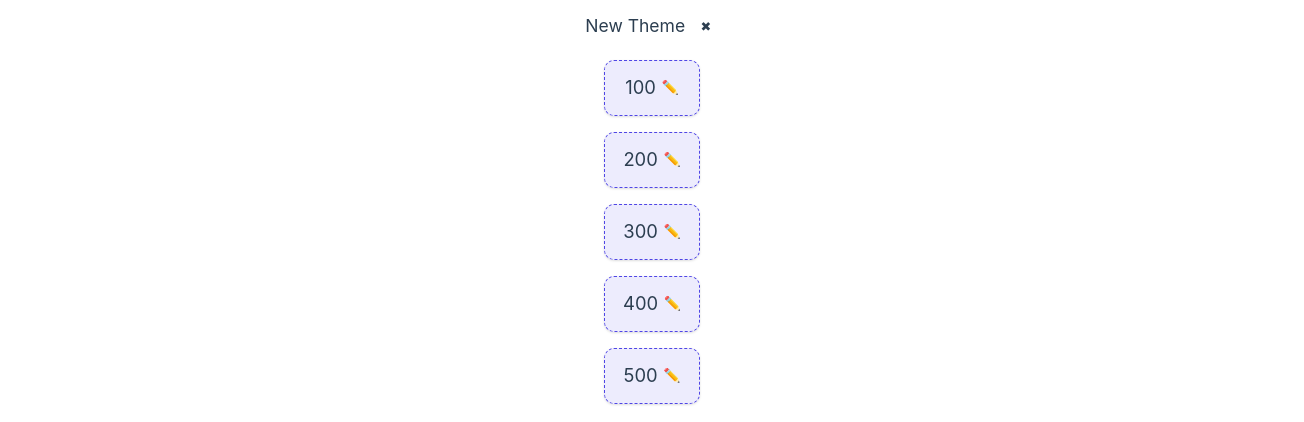
Test: ThemeColumn › edits the theme title via click and Enter
Click the heading with class "theme-header": [635, 26] box 585,12 -> 685,40
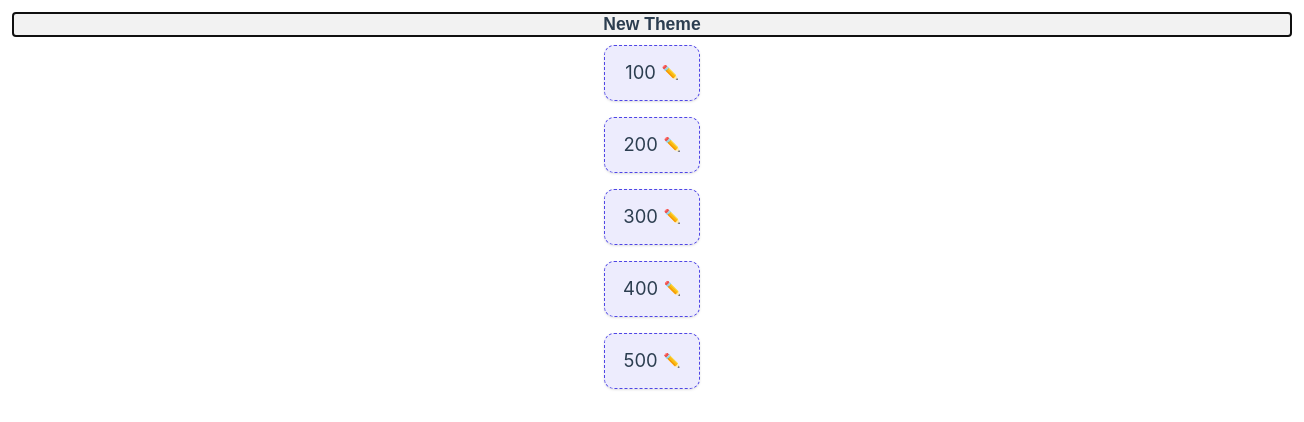
expect the field with class "theme-header-input" is shown: met
Replace the text in the field with class "theme-header-input" with "  Geografie  ": [652, 24] box 12,12 -> 1292,37
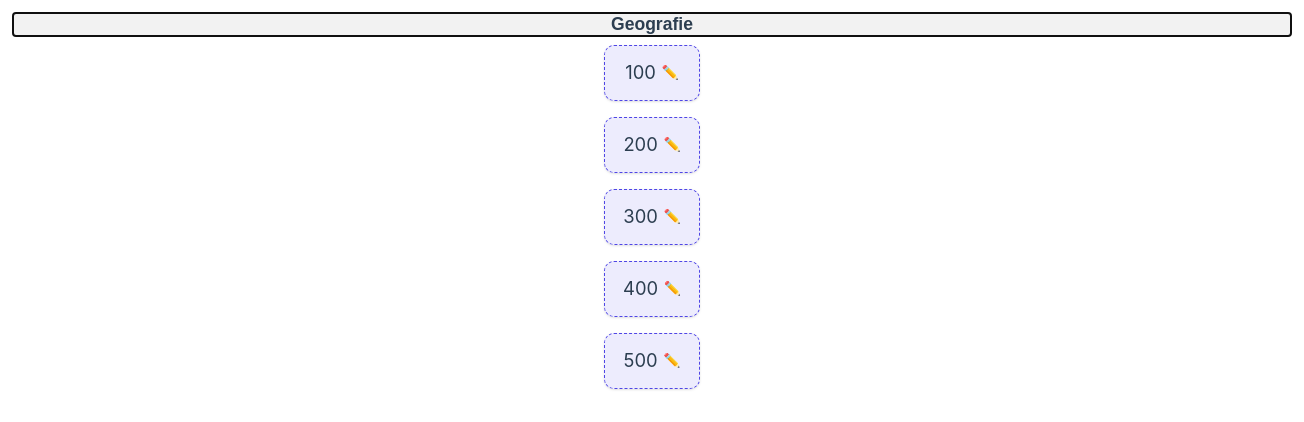
Press Enter in the field with class "theme-header-input", box 12,12 -> 1292,37
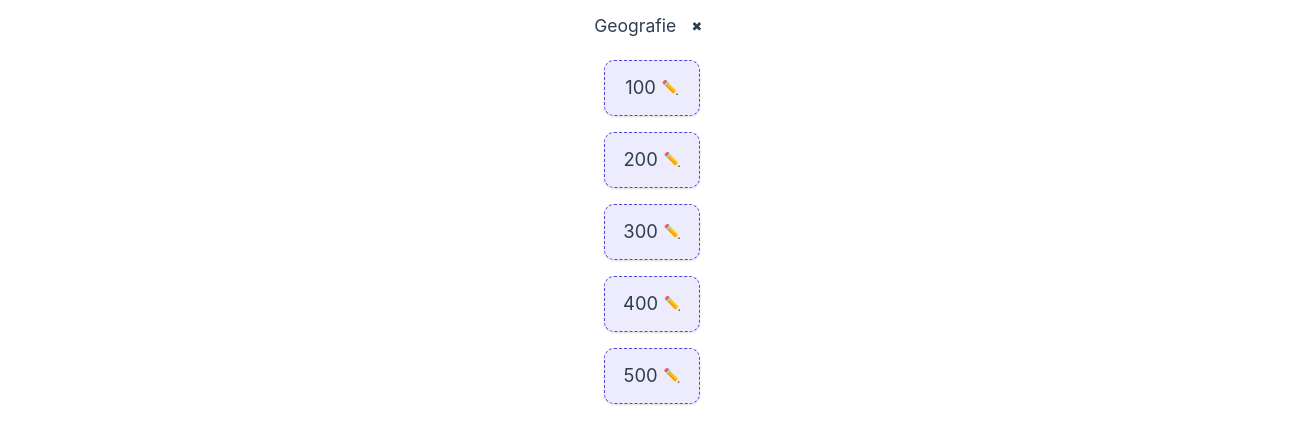
expect the heading "Geografie" is shown: met, box 594,12 -> 676,40
